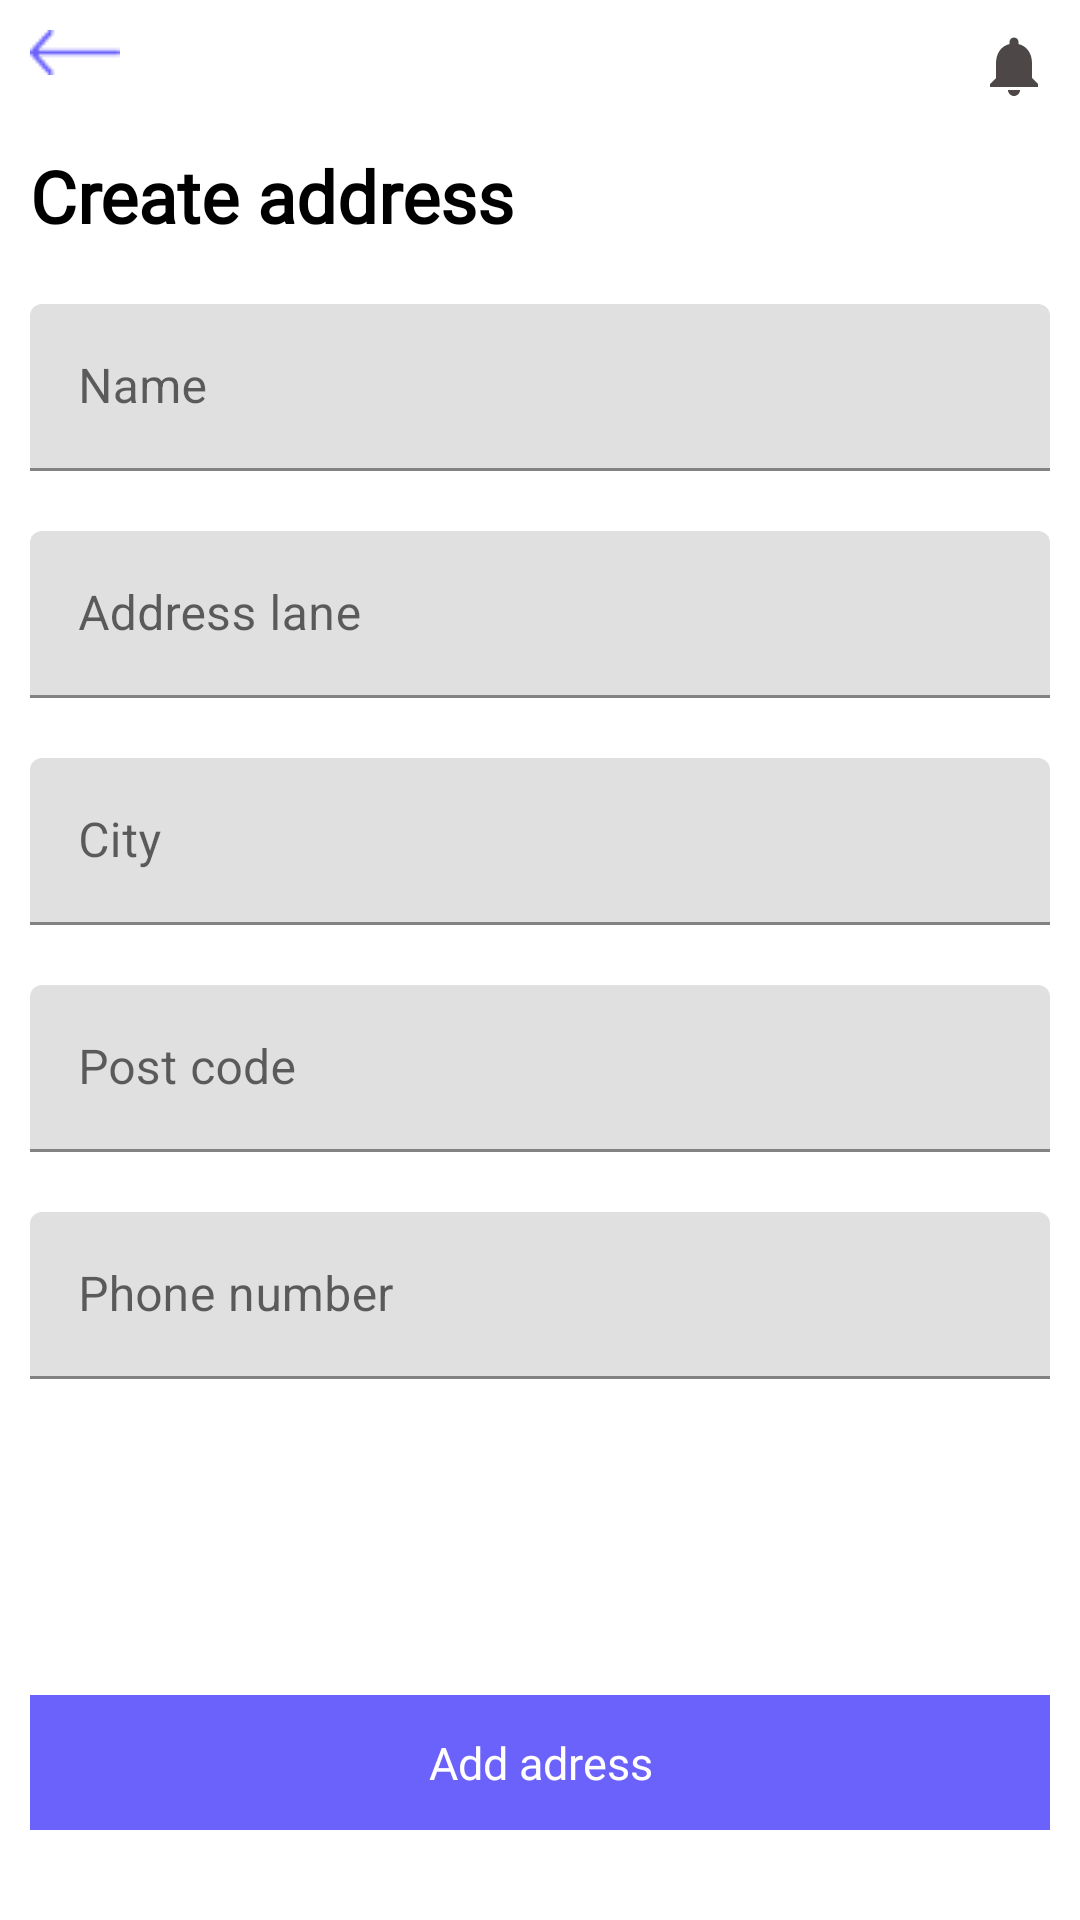

Icon bounding boxes for this 1080 x 1920 phone screenshot, format [left=x1, top=y1, right=x2, bottom=y2]:
back arrow: [left=30, top=30, right=120, bottom=75]
notifications: [left=990, top=37, right=1038, bottom=96]
